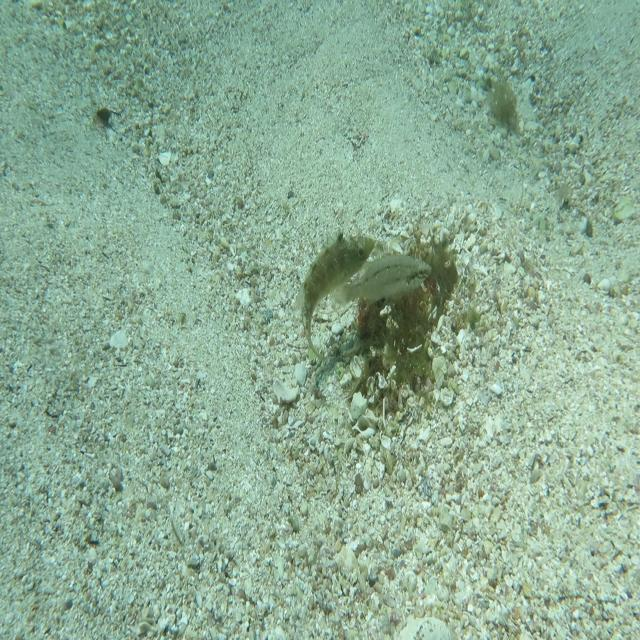BEND: (290, 222, 376, 367)
female: (329, 252, 432, 313)
nest: (327, 193, 465, 409)
